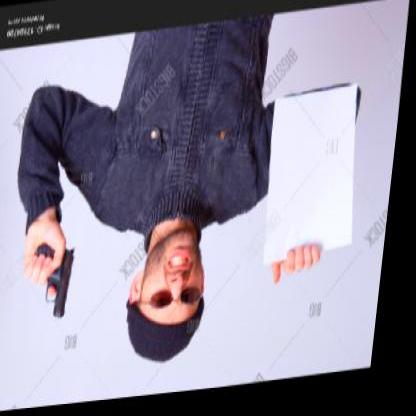pistol: (32, 240, 84, 323)
